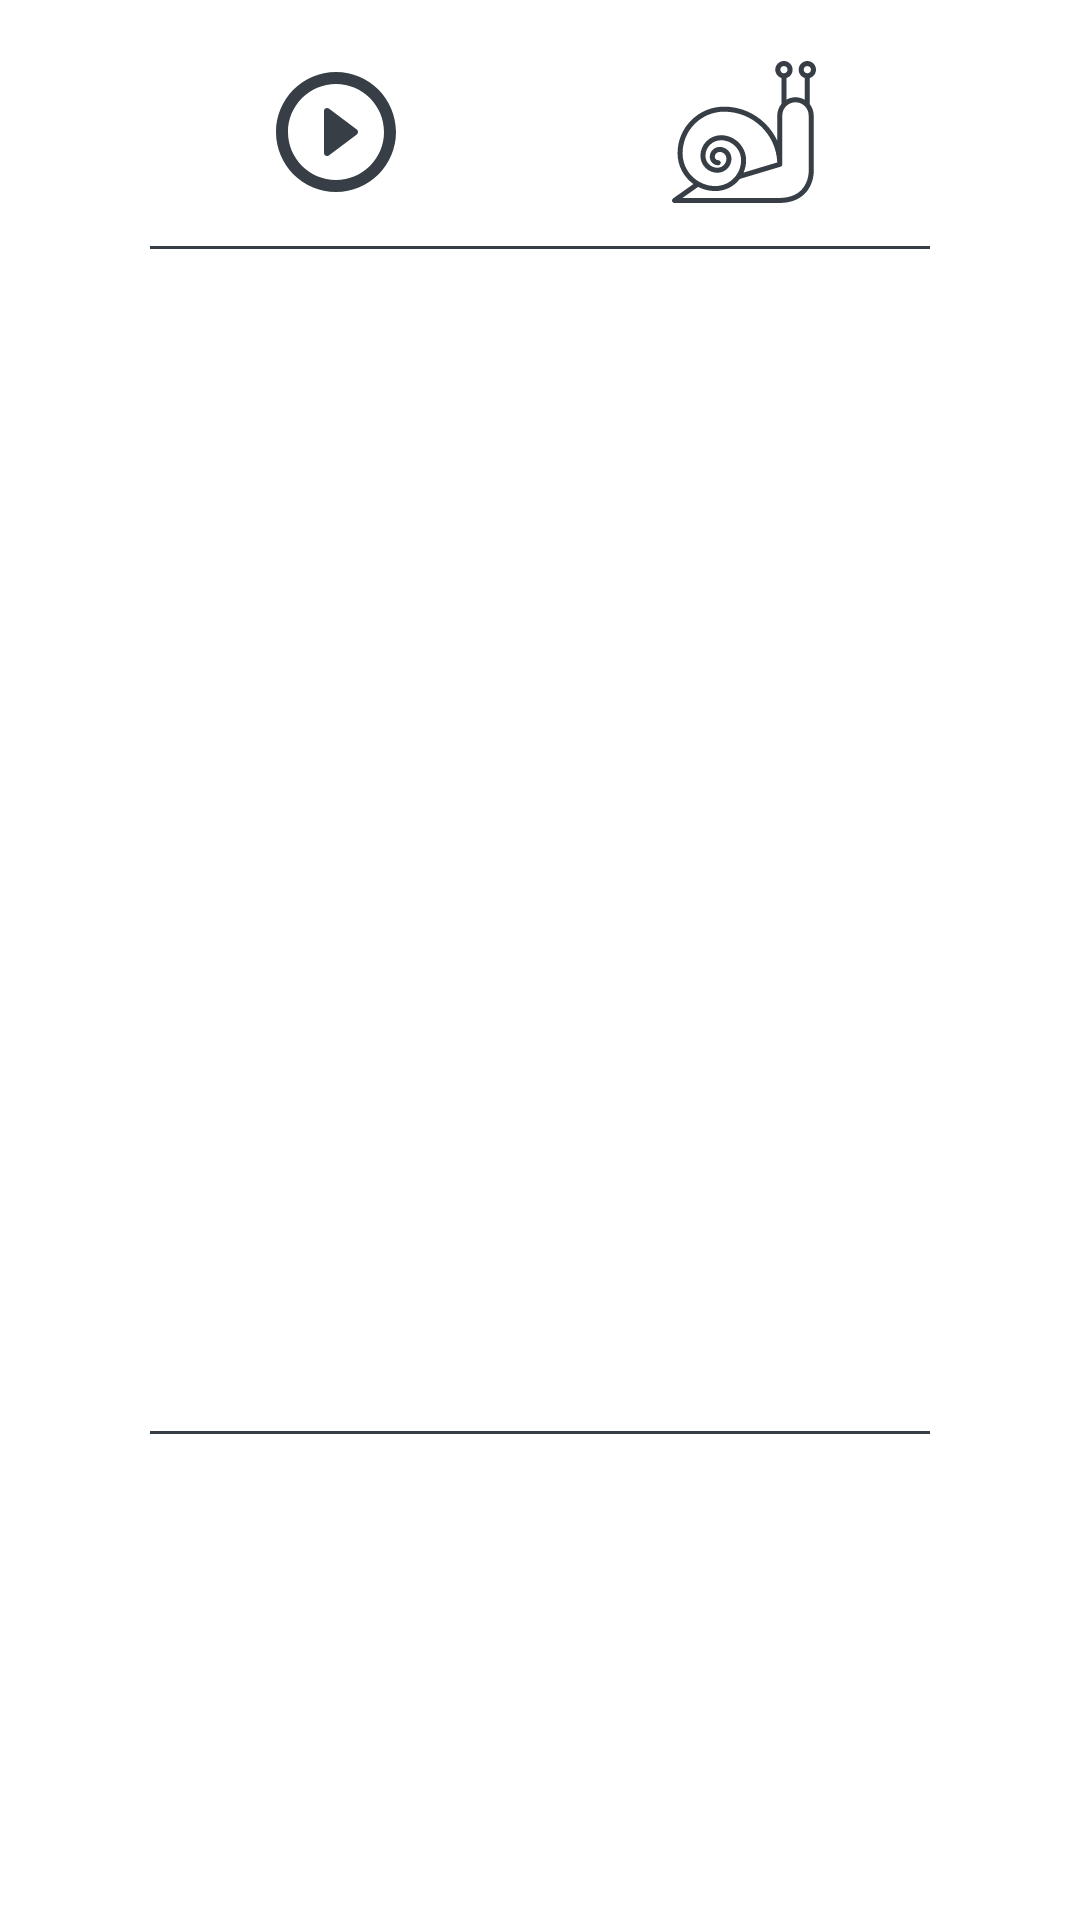

Point at icon controls on the screen. Image size 1080px x 1920px, points as (x,y).
snail: (744,132)
